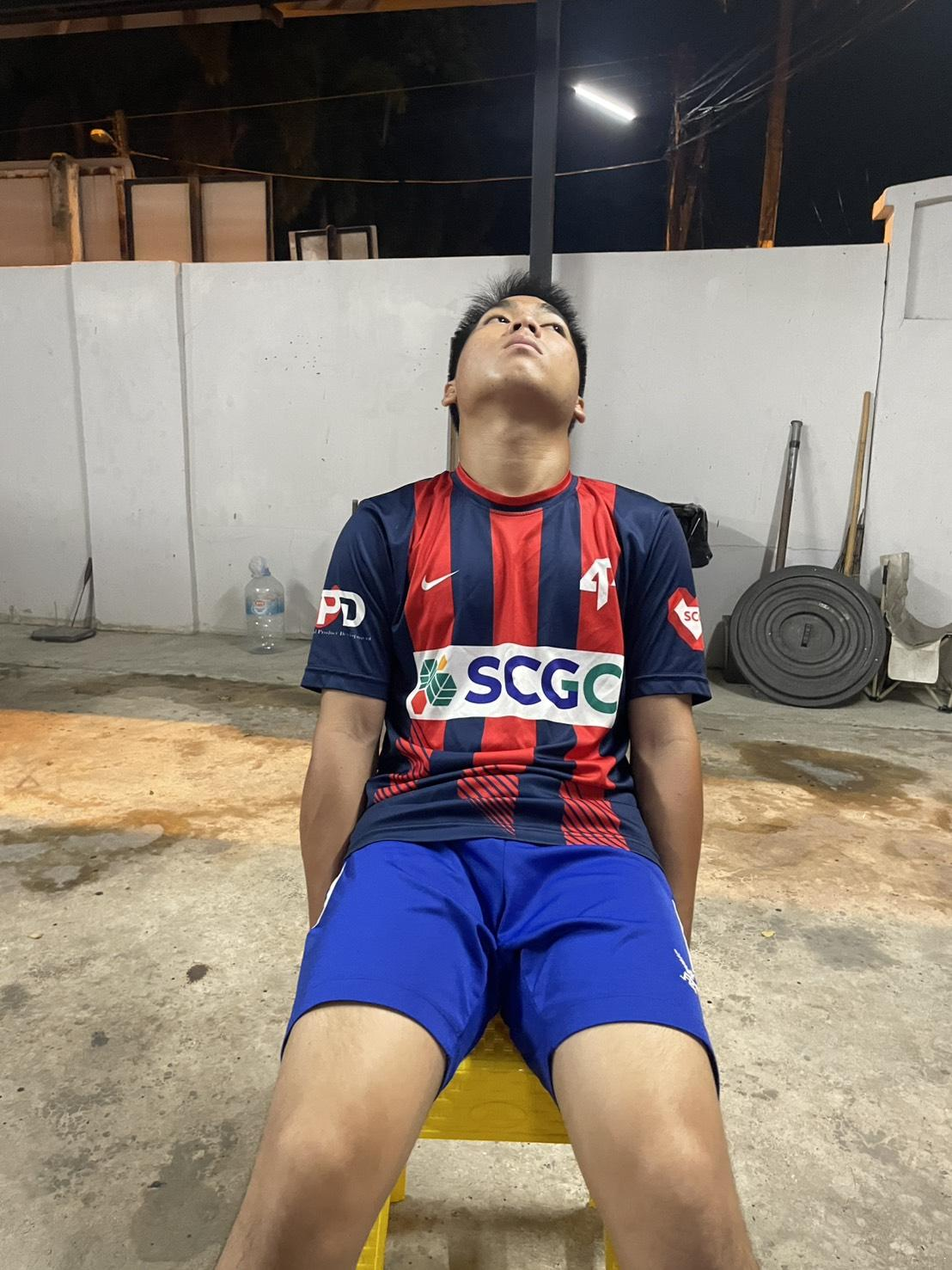BadPosture: (300, 273, 708, 922)
